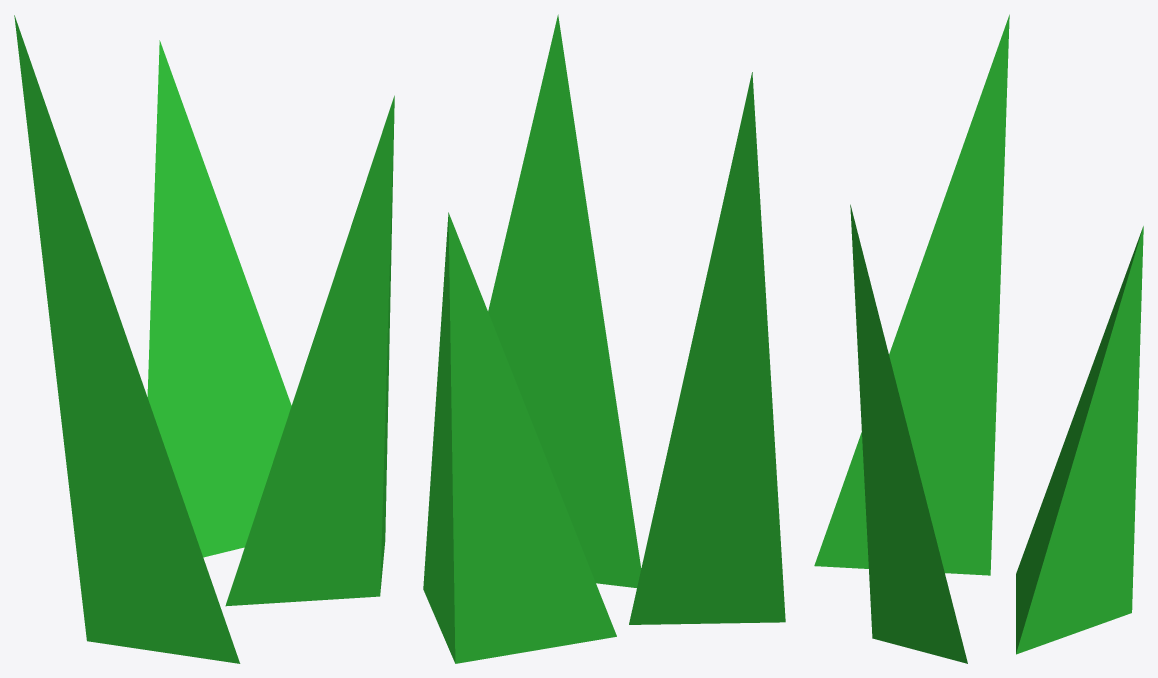
File: grass.glb
The picture shows the model from 3 angles, left to right: view 1: azimuth 30°, elevation 25°; view 2: azimuth 150°, elevation 25°; view 3: azimuth 270°, elevation 25°; orthographic projection. The views are drawn at different scales.
Visible parts, largest first — view 1: Cone.012; view 2: Cone.012; view 3: Cone.012.
Boxes of the visible parts, x1,y1,x2,y2 form: Cone.012: [14, 15, 394, 663]; Cone.012: [423, 14, 785, 663]; Cone.012: [814, 14, 1143, 663].
Bounding box in the file's own units: 1.22 × 1.99 × 1.18.
